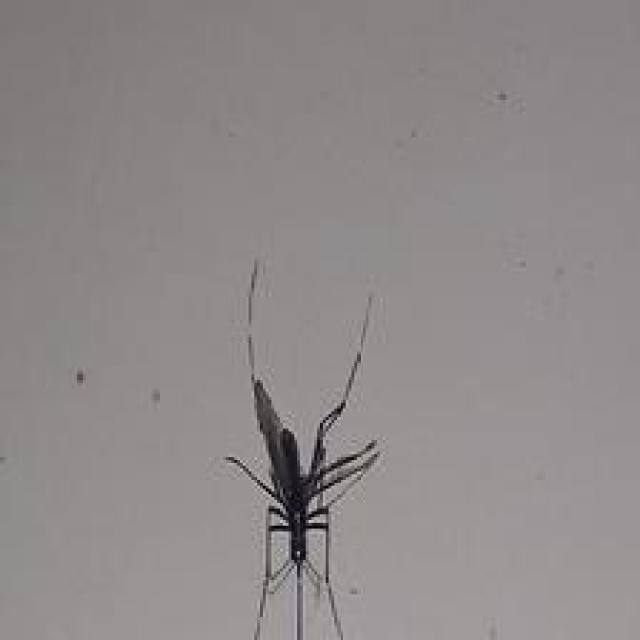Aedes albopictus: (219, 257, 384, 640)
